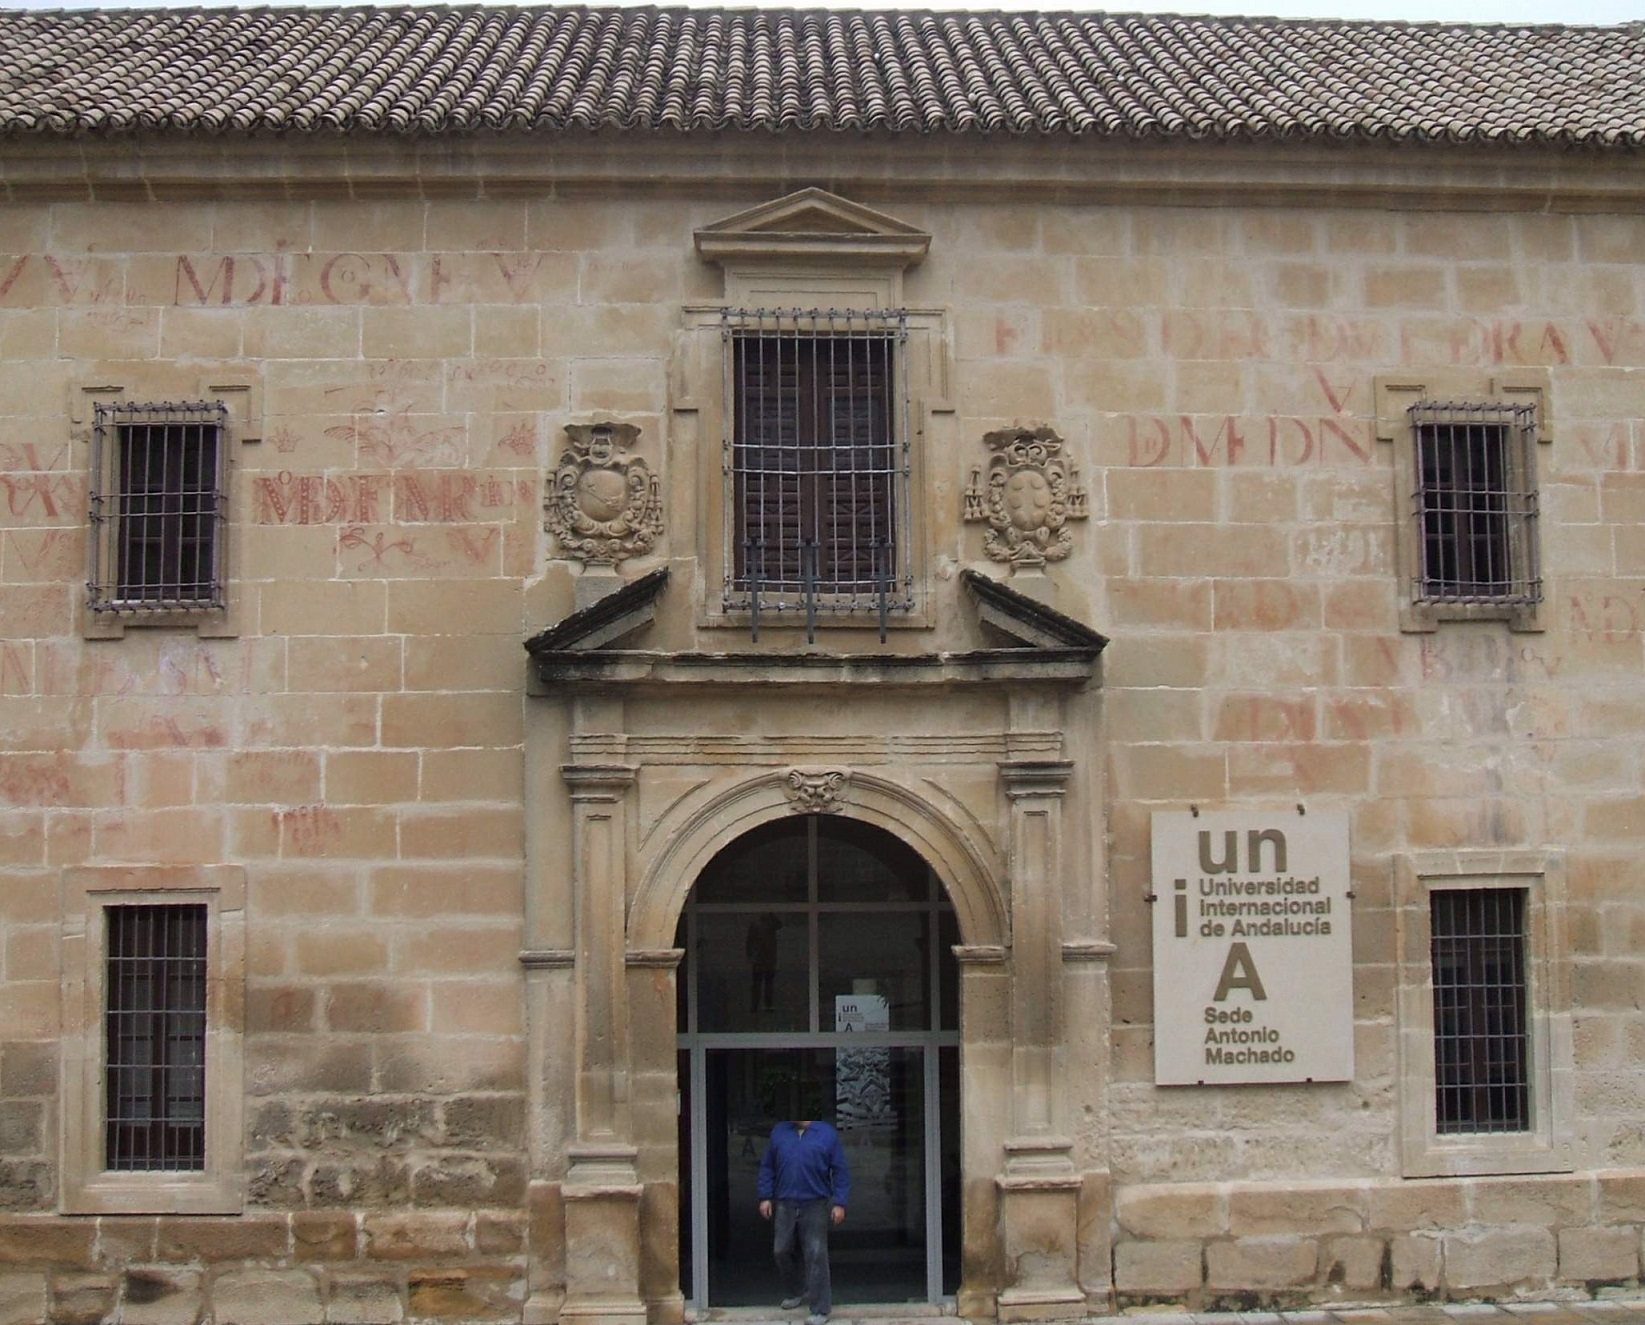arco-medio-punto: (657, 796, 993, 1009)
fronton: (687, 178, 948, 269)
fronton-partido: (520, 565, 1126, 691)
vano-adintelado: (672, 296, 954, 623), (54, 859, 262, 1190), (1385, 846, 1576, 1151), (64, 383, 270, 635), (1367, 370, 1563, 617)
